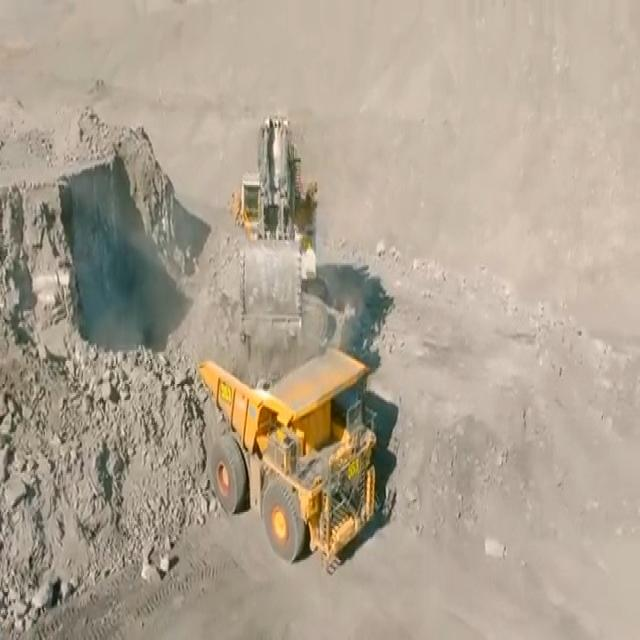dump_truck: (198, 352, 374, 565)
excavator: (228, 116, 323, 342)
